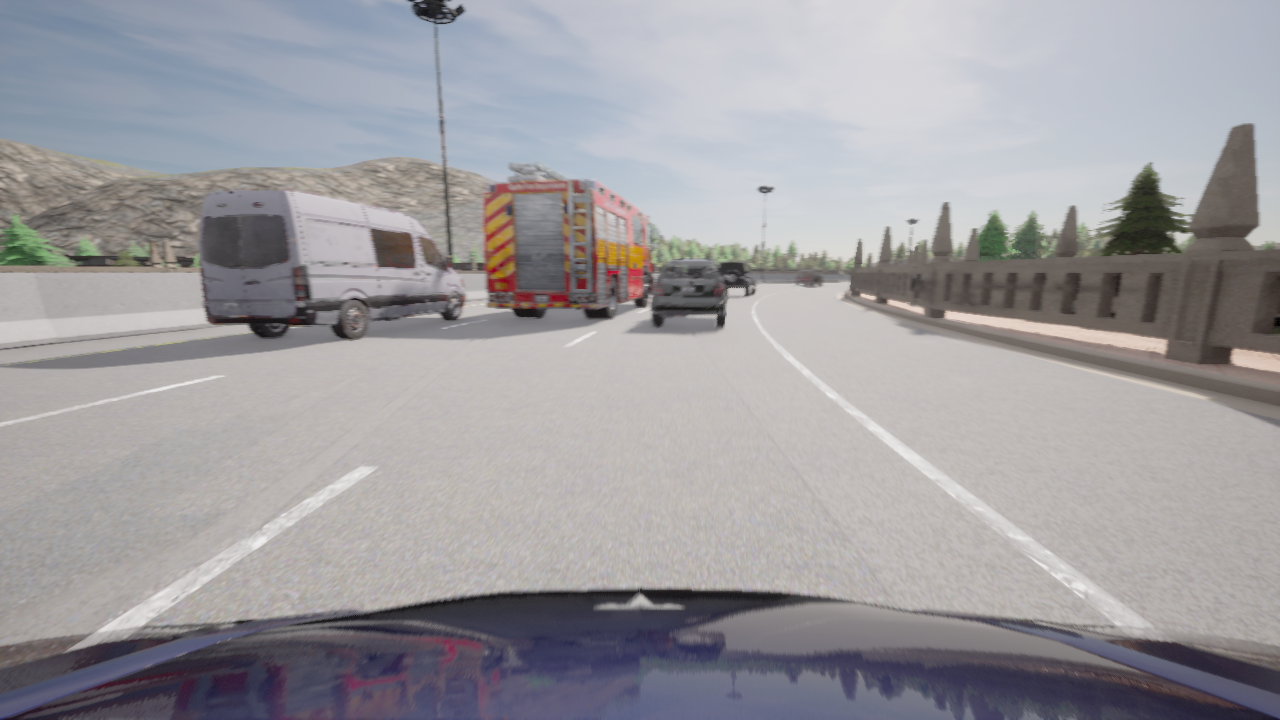cyclist: (0, 588, 1279, 719), (197, 189, 465, 338), (483, 161, 658, 318), (651, 259, 728, 326), (718, 260, 756, 296), (794, 270, 822, 285)
